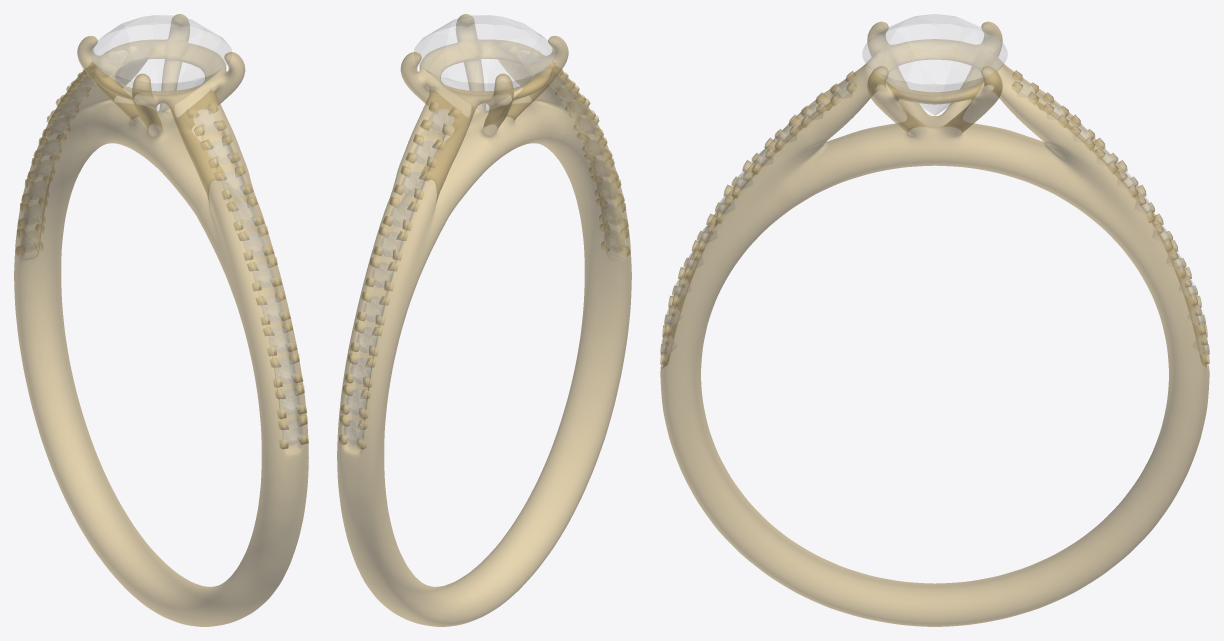
3 views of the same model, side by side, from view 1: azimuth 30°, elevation 25°; view 2: azimuth 150°, elevation 25°; view 3: azimuth 270°, elevation 25° (orthographic). The views are drawn at different scales.
Parts seen in each view (by area): view 1: Ring, Diamond; view 2: Ring, Diamond; view 3: Ring, Diamond.
Boxes of the visible parts, x1=… form: Ring: x1=14, y1=14, x2=308, y2=626; Diamond: x1=21, y1=15, x2=302, y2=444; Ring: x1=337, y1=14, x2=631, y2=626; Diamond: x1=344, y1=15, x2=624, y2=444; Ring: x1=660, y1=21, x2=1209, y2=626; Diamond: x1=661, y1=14, x2=1208, y2=356.
Bounding box in the file's own units: 0.6116 × 2.75 × 2.31.
